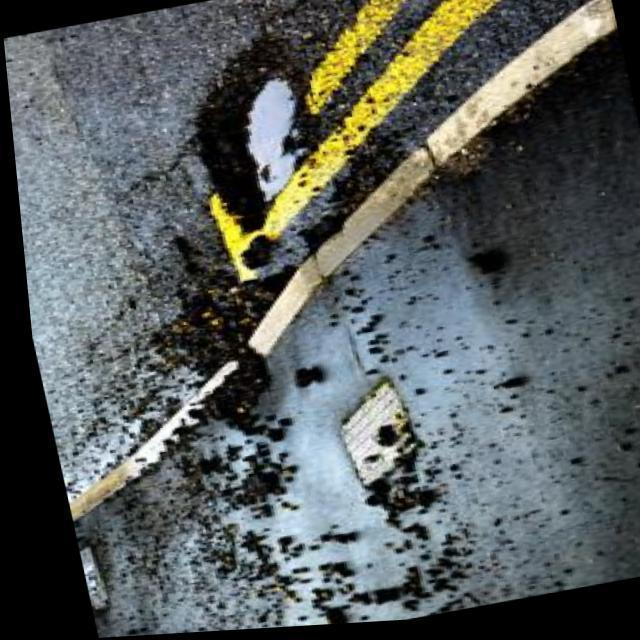Pothole: (187, 34, 310, 237)
